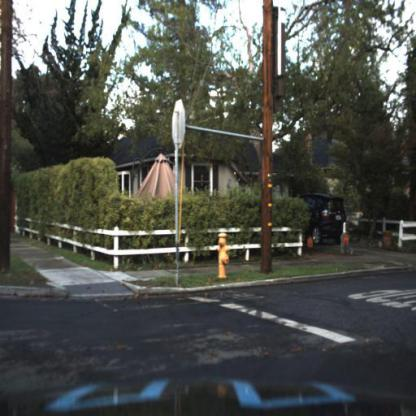car: (284, 189, 353, 254)
